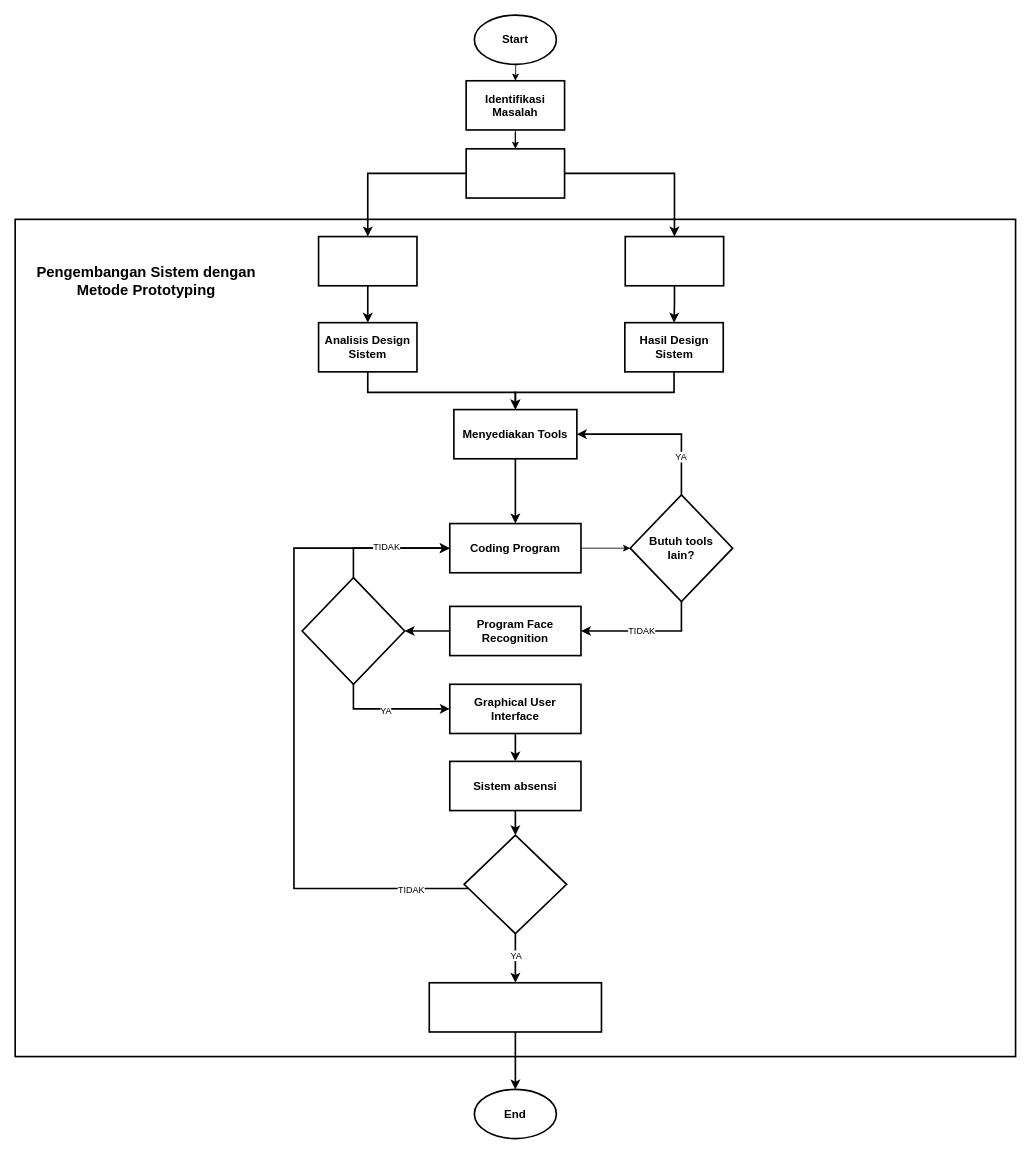
This 1030x1153 diagram has some shape labels left out. The shapes that lost their labels are listed below. From the top down, each one's centre as x and y in pixels, then its label:
point (515, 173): Studi Literatur
point (367, 260): Analisis Sistem
point (674, 260): Hasil Analisa
point (353, 630): Hasil efektif?
point (515, 884): Hasil sesuai?
point (515, 1007): Aplikasi sistem absensi dengan face recognition
